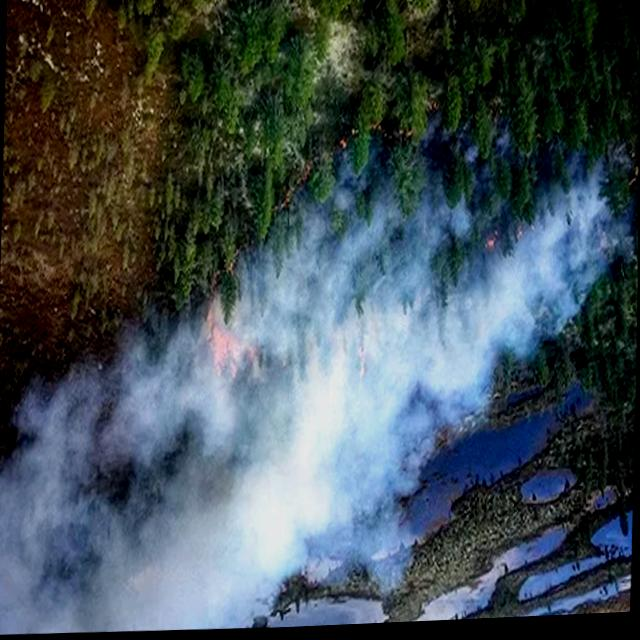Smoke: (0, 150, 636, 640)
